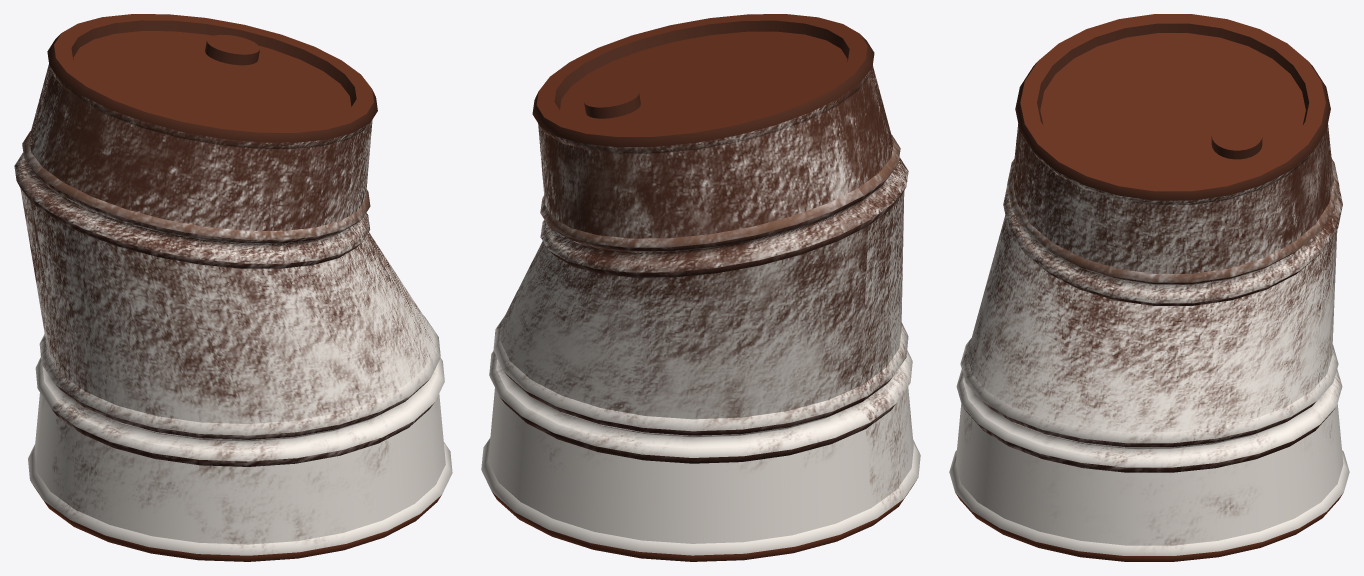
The model's file is 드럼통2.fbx.
3 renders of one model, left to right at view 1: azimuth 30°, elevation 25°; view 2: azimuth 150°, elevation 25°; view 3: azimuth 270°, elevation 25°, orthographic. The views are drawn at different scales.
Parts seen in each view (by area): view 1: 드럼통2; view 2: 드럼통2; view 3: 드럼통2.
Part boxes in pixels (bbox=[...]): 드럼통2: bbox=[14, 14, 452, 561]; 드럼통2: bbox=[481, 14, 920, 561]; 드럼통2: bbox=[949, 14, 1349, 561].
Size of the model in its own units: 99.45 by 108 by 98.87.
1 material, 1 textured.
